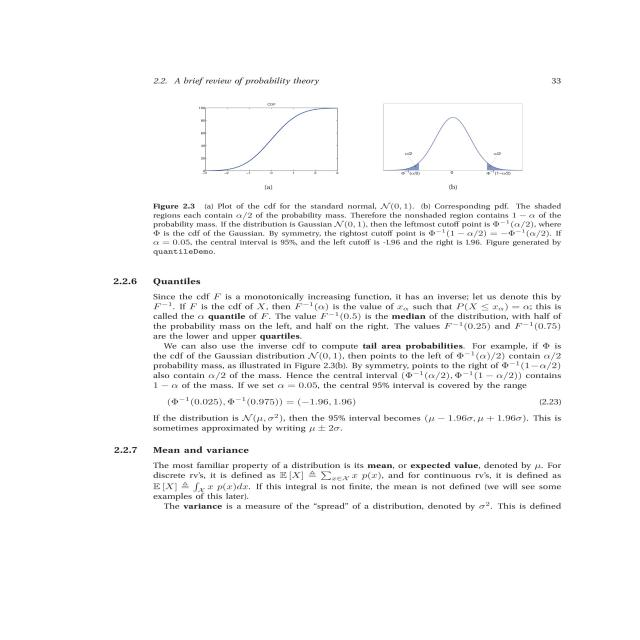diagram: (119, 97, 640, 269)
